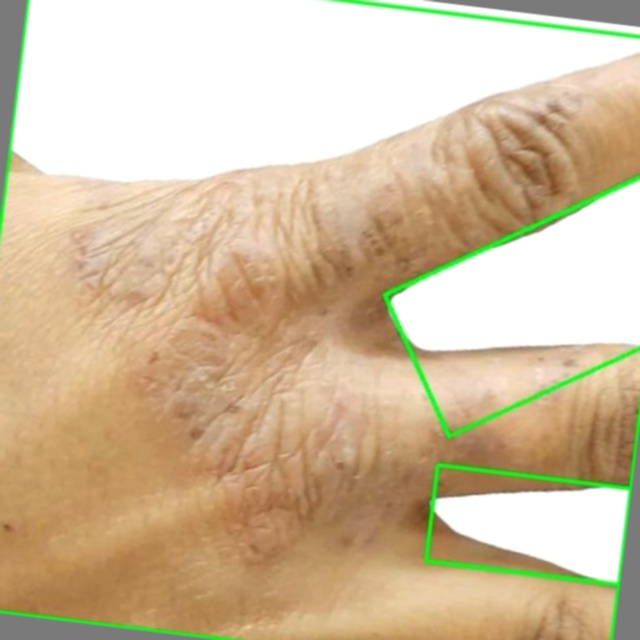Eczema: (0, 0, 639, 639), (361, 120, 639, 437), (426, 464, 631, 584)
